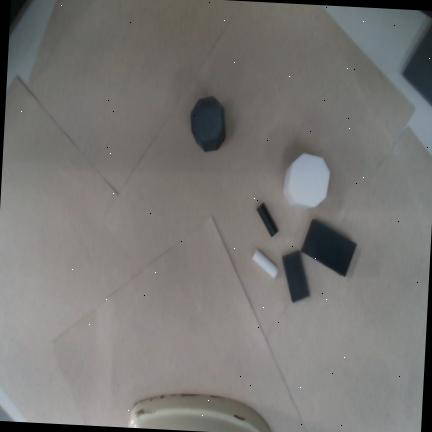Cilindro: (256, 203, 279, 237), (252, 250, 279, 278)
Paralelepipedo: (300, 219, 357, 277), (282, 250, 310, 303)
Prisma_hexagonal: (283, 153, 331, 210), (190, 97, 225, 152)
